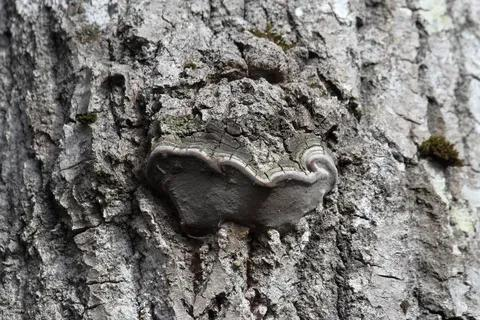Plum tinder fungus: (132, 112, 369, 243)
